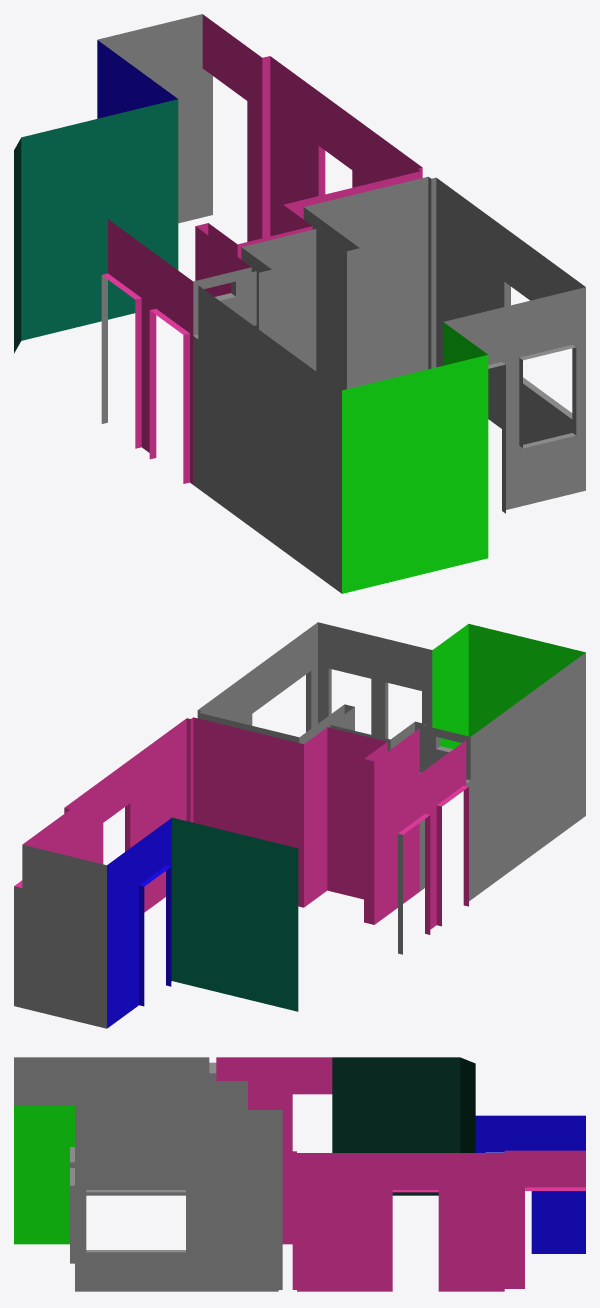
File: walls.fbx
3 views of the same model, one above another, from view 1: azimuth 30°, elevation 25°; view 2: azimuth 150°, elevation 25°; view 3: azimuth 270°, elevation 25° (orthographic). The views are drawn at different scales.
Parts seen in each view (by area): view 1: walls; view 2: walls; view 3: walls.
Part boxes in pixels (x1,y1,x2,y2): walls: (14, 14, 585, 593); walls: (14, 622, 585, 1028); walls: (14, 1057, 585, 1291).
Bounding box in the file's own units: 466 × 300 × 1124.
